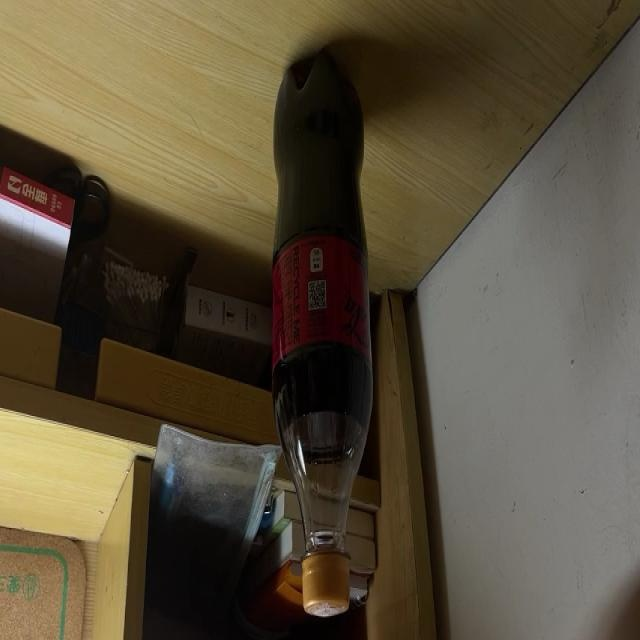Coca-Cola: (272, 48, 373, 617)
